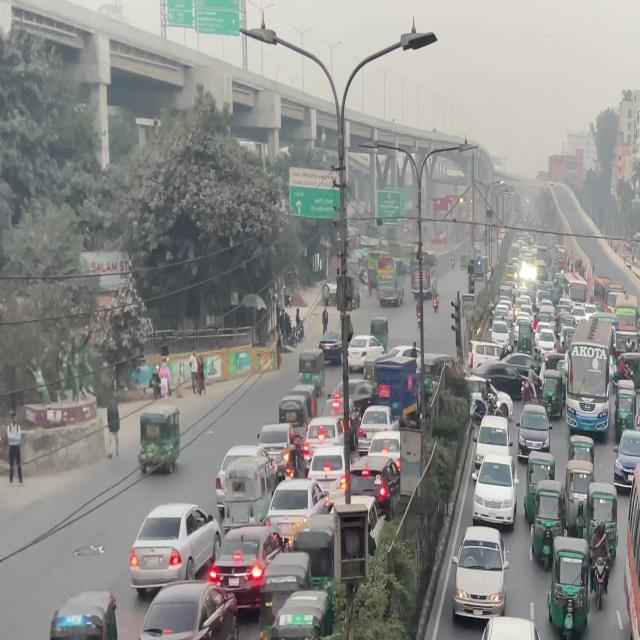bus: (564, 343, 614, 431), (624, 457, 640, 640)
car: (127, 506, 223, 599), (129, 583, 233, 640), (218, 443, 284, 525), (453, 530, 510, 622), (259, 586, 332, 640), (469, 451, 519, 525), (469, 615, 544, 640), (612, 433, 640, 476)
rickshaw: (548, 525, 598, 640), (47, 589, 127, 640), (138, 406, 183, 478)
